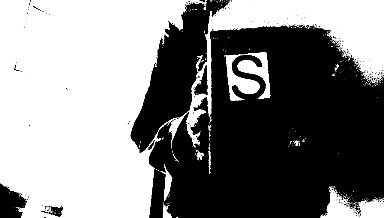S: (224, 52, 271, 98)
